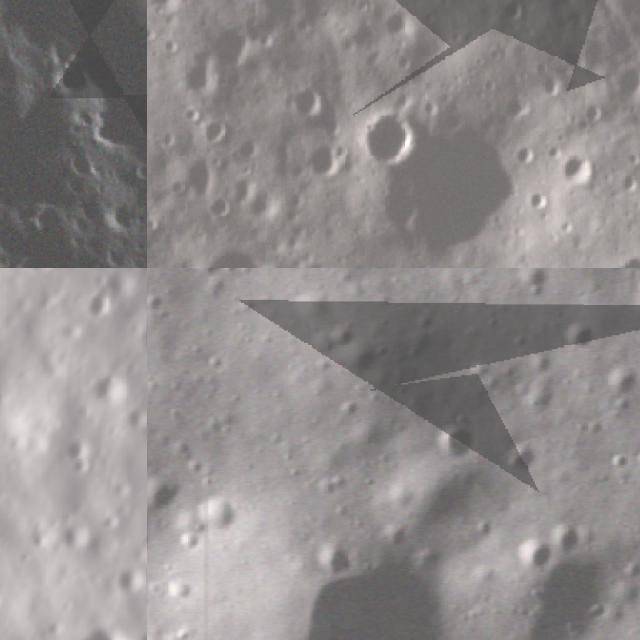crater: (368, 116, 549, 264), (303, 543, 455, 640), (512, 546, 640, 640), (362, 104, 422, 167), (204, 16, 261, 72), (42, 56, 99, 107), (296, 137, 350, 189), (197, 238, 285, 268), (121, 294, 147, 388), (201, 493, 248, 542), (178, 54, 222, 106), (282, 76, 332, 121), (434, 414, 475, 466), (554, 149, 600, 193), (502, 431, 538, 483), (177, 155, 219, 196), (313, 540, 355, 581), (377, 8, 419, 48), (561, 313, 598, 357), (554, 518, 592, 557), (515, 538, 557, 571), (605, 362, 640, 400), (610, 59, 640, 100), (71, 620, 129, 640), (192, 112, 228, 144), (4, 248, 59, 268), (232, 173, 261, 204), (147, 0, 188, 20), (192, 268, 230, 287), (610, 247, 640, 268)
